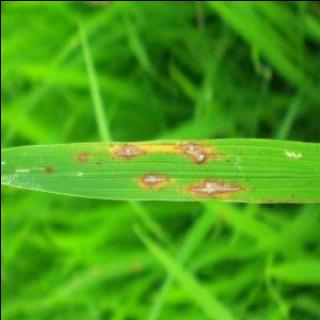Blast: (185, 180, 244, 197), (171, 144, 218, 164), (138, 174, 170, 189), (111, 144, 142, 158), (77, 154, 90, 161)
